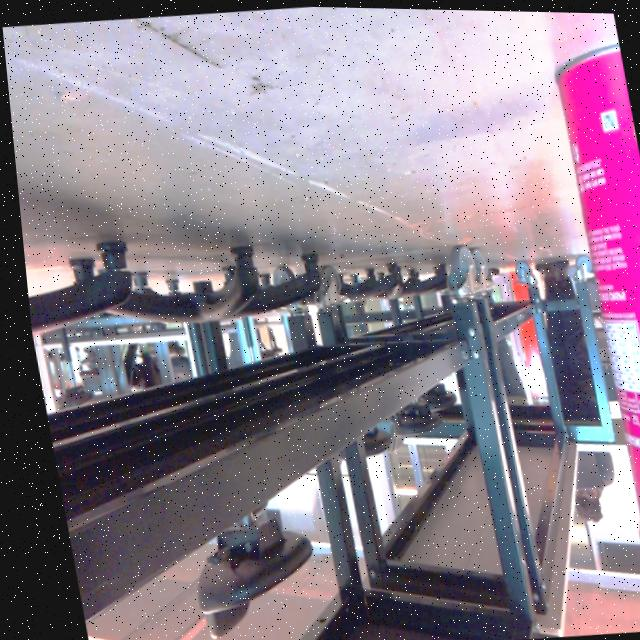redpringles: (515, 25, 640, 584)
